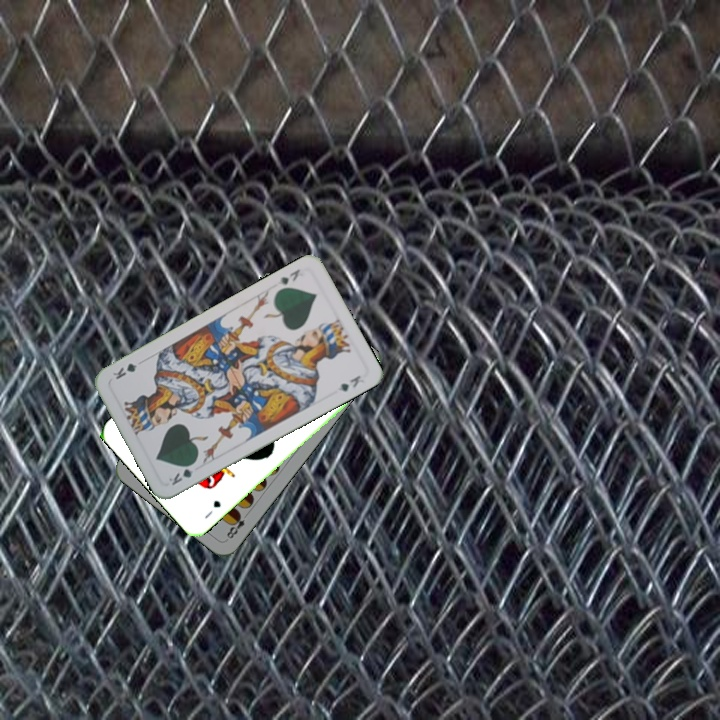E8: (222, 509, 252, 543)
GK: (164, 458, 199, 488), (274, 265, 303, 288)
GU: (201, 496, 223, 522)
